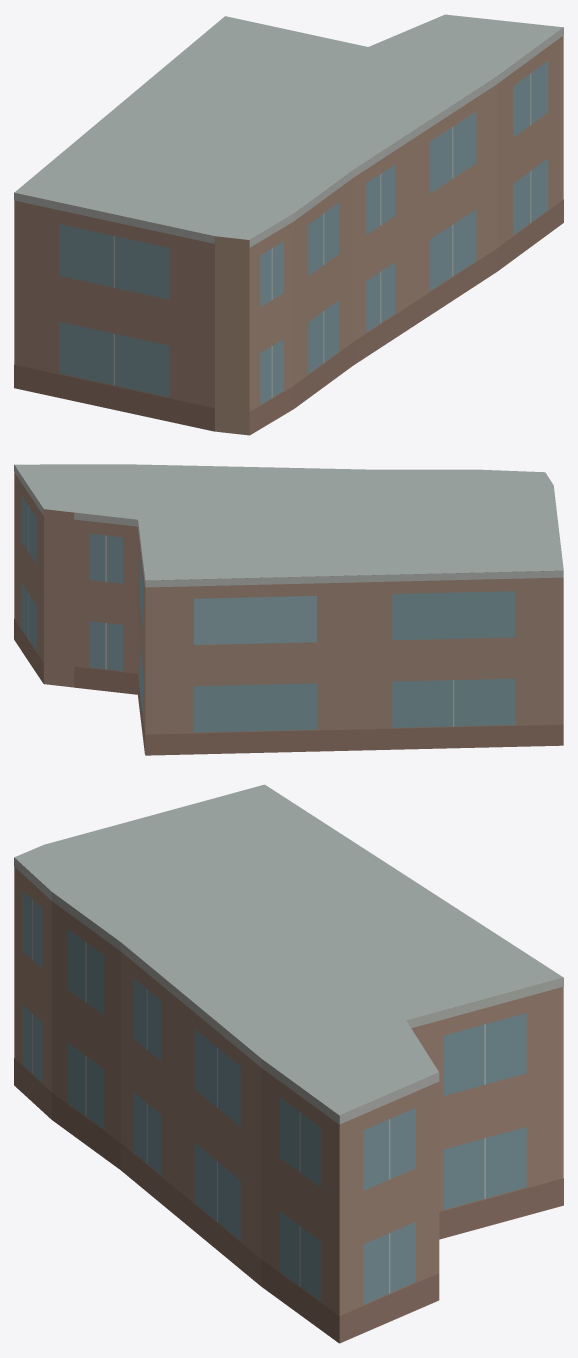
The model's file is survey-upis-32987889.glb.
3 renders of one model, top to bottom at view 1: azimuth 30°, elevation 25°; view 2: azimuth 150°, elevation 25°; view 3: azimuth 270°, elevation 25°, orthographic. The views are drawn at different scales.
Parts seen in each view (by area): view 1: survey-upis-32987889.tmp; view 2: survey-upis-32987889.tmp; view 3: survey-upis-32987889.tmp.
Boxes of the visible parts, x1,y1,x2,y2 form: survey-upis-32987889.tmp: (14, 14, 563, 435); survey-upis-32987889.tmp: (14, 464, 563, 755); survey-upis-32987889.tmp: (14, 784, 563, 1343).
Bounding box in the file's own units: 19.01 × 6.1 × 13.34.
